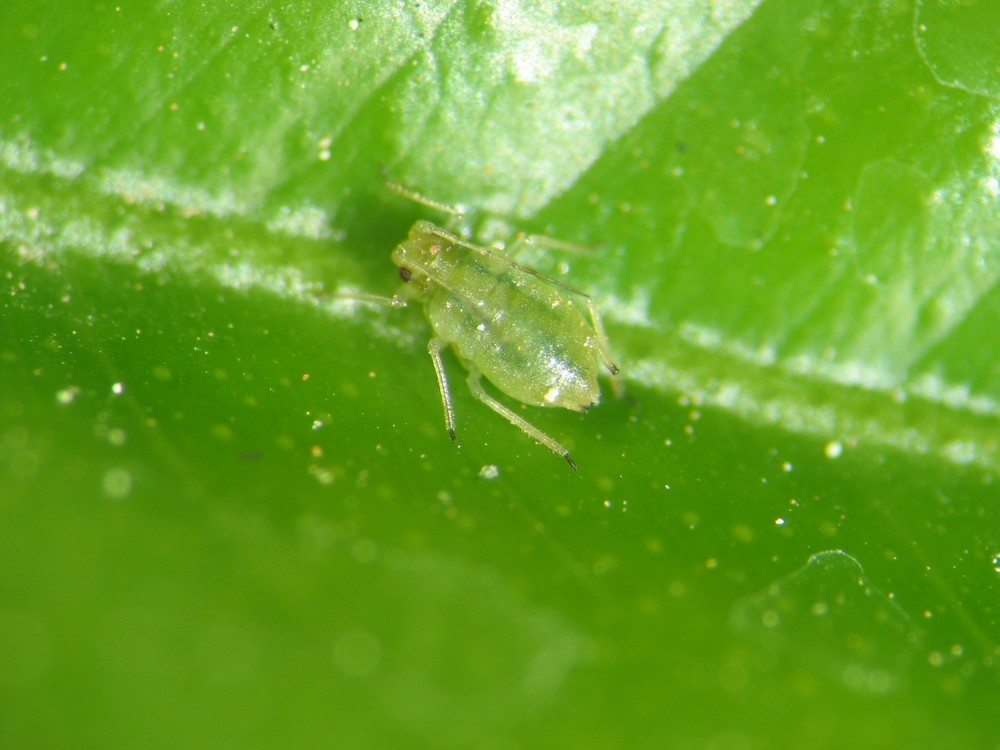Pulgon: (334, 160, 657, 488)
